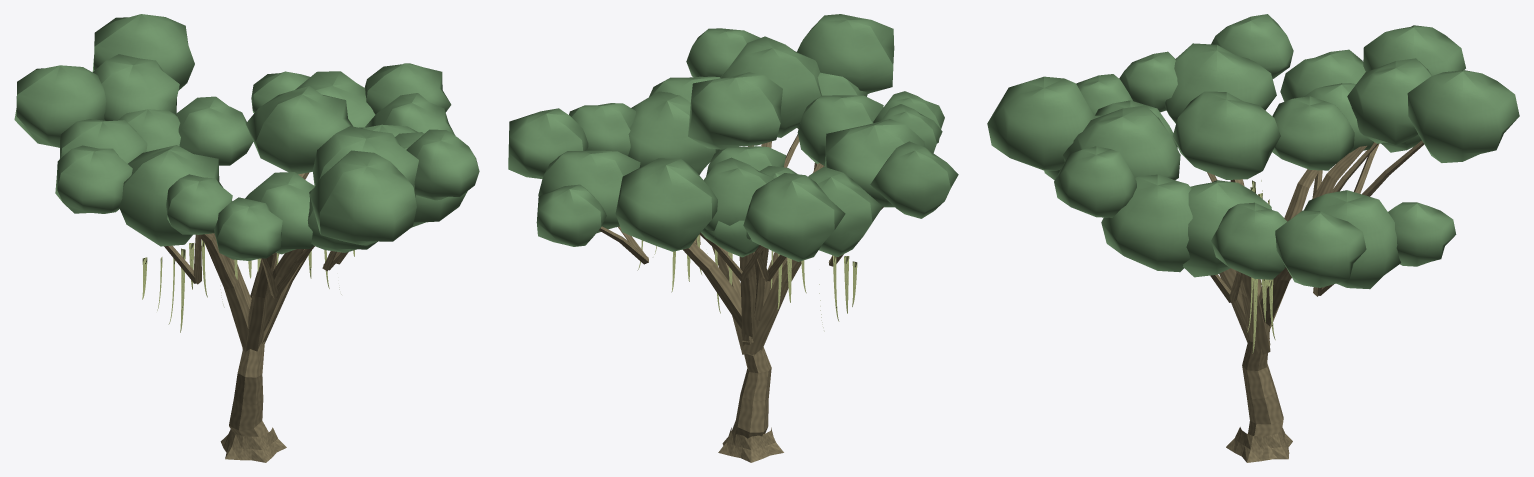
Rendered from moss_hung_swamp_oak_swamp_and_mangrove_22600.glb.
3 renders of one model, left to right at view 1: azimuth 30°, elevation 25°; view 2: azimuth 150°, elevation 25°; view 3: azimuth 270°, elevation 25°, orthographic. The views are drawn at different scales.
Parts seen in each view (by area): view 1: mossy-swamp-oak; view 2: mossy-swamp-oak; view 3: mossy-swamp-oak.
Part boxes in pixels (x1,y1,x2,y2): mossy-swamp-oak: (14, 14, 479, 462); mossy-swamp-oak: (508, 14, 958, 462); mossy-swamp-oak: (987, 14, 1519, 462).
Size of the model in its own units: 7.88 by 6.59 by 8.51.
Materials: 3 (3 with a texture image).
